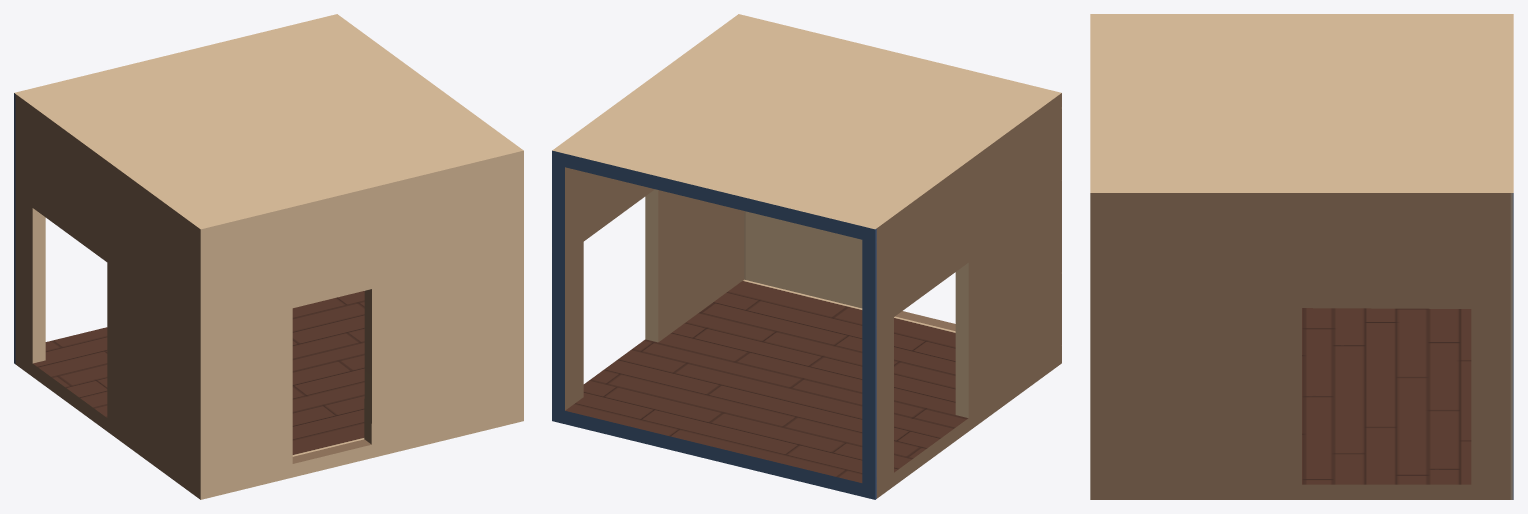
File: Hallway1UP_1Door.fbx
3 views of the same model, side by side, from view 1: azimuth 30°, elevation 25°; view 2: azimuth 150°, elevation 25°; view 3: azimuth 270°, elevation 25° (orthographic). The views are drawn at different scales.
Visible parts, largest first — view 1: Object; view 2: Object; view 3: Object.
Part boxes in pixels (box(x1,y1,x2,y2)): Object: box(14, 14, 523, 499); Object: box(552, 14, 1061, 499); Object: box(1090, 14, 1513, 499).
Bounding box in the file's own units: 500 × 400 × 500.
